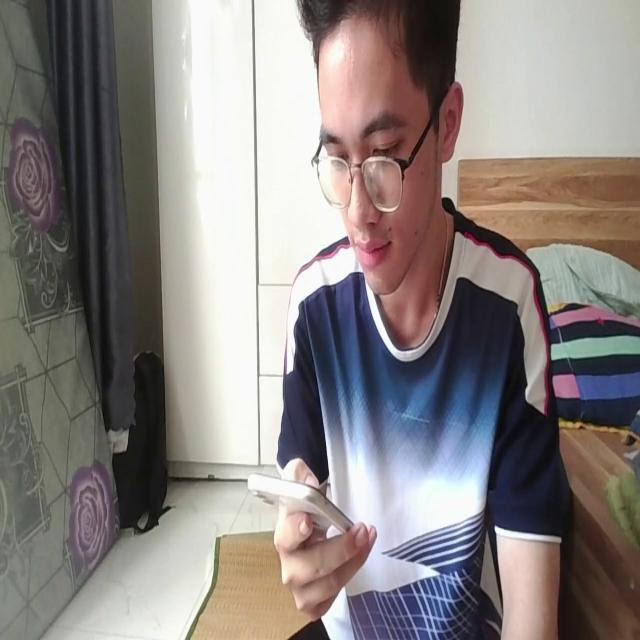phone: (244, 469, 358, 538)
student: (276, 1, 564, 640)
